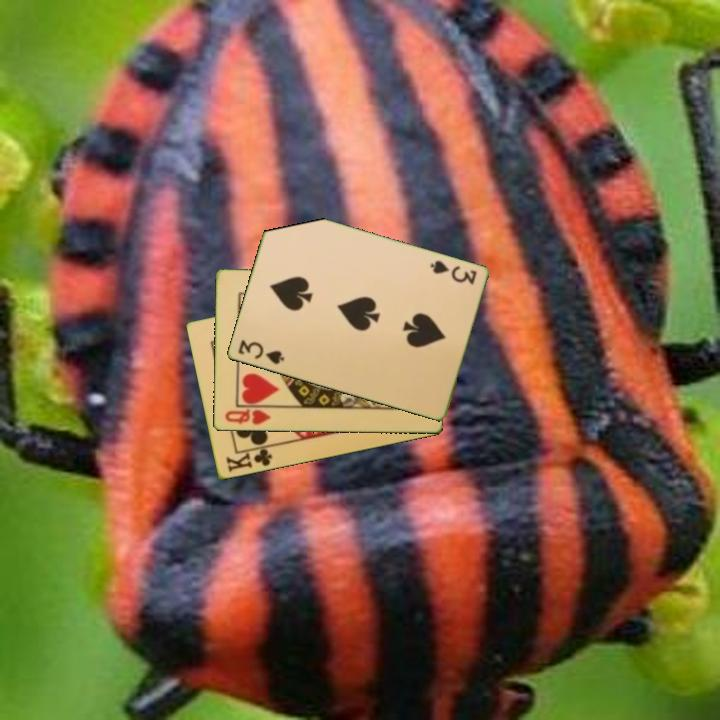3s: (426, 257, 479, 288), (234, 337, 287, 367)
Kc: (222, 443, 275, 475)
Qh: (221, 406, 273, 428)
